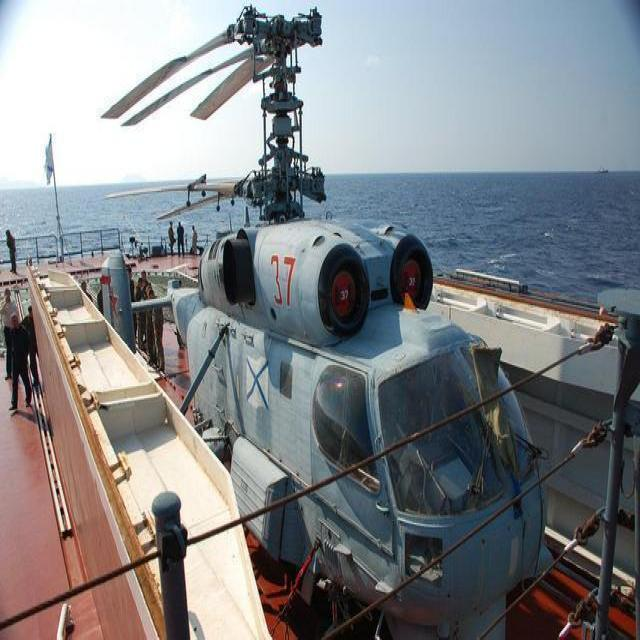MIL_HELO: (58, 18, 574, 640)
